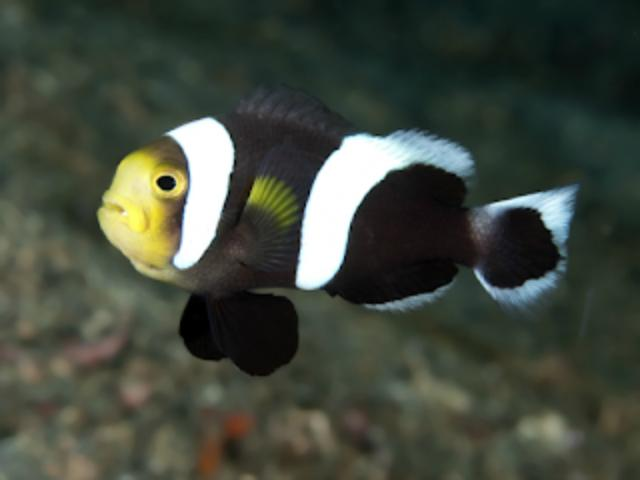Mulut: (74, 170, 158, 253)
Sirip Anal: (333, 249, 471, 327)
Sirip Dada: (214, 126, 330, 286)
Sirip Ekor: (468, 176, 602, 330), (168, 269, 314, 387)
Sirip Punggung: (230, 63, 486, 215)
